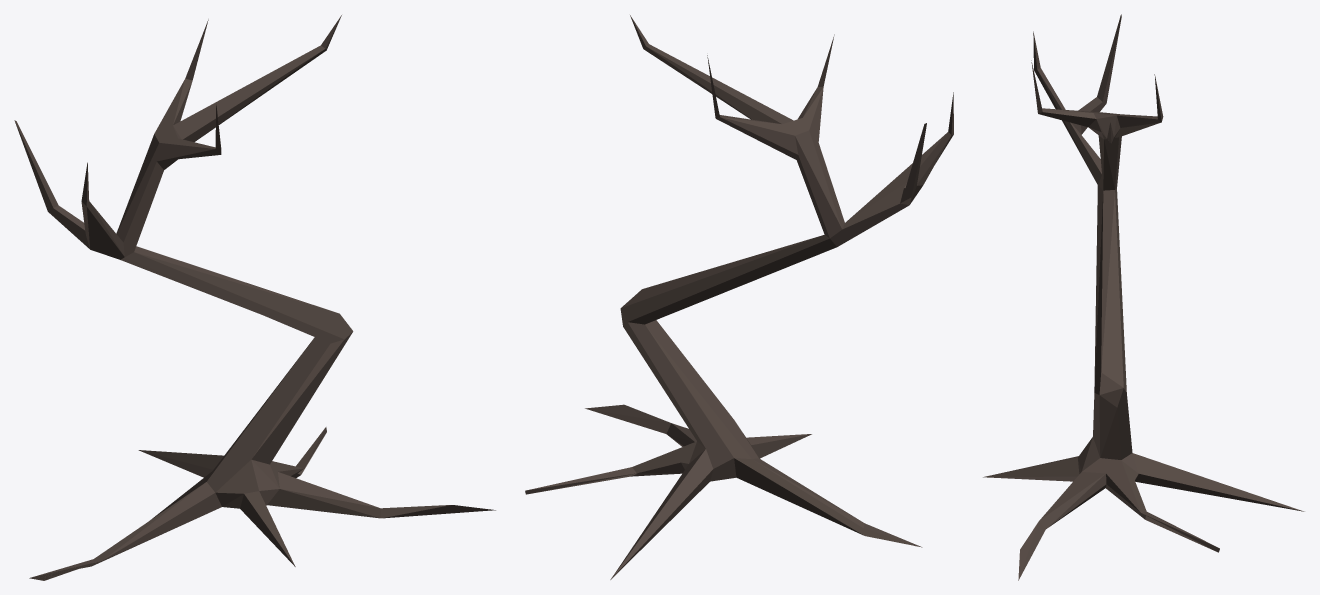
The model's file is Glade_Tree_Tronc4.fbx.
The picture shows the model from 3 angles, left to right: view 1: azimuth 30°, elevation 25°; view 2: azimuth 150°, elevation 25°; view 3: azimuth 270°, elevation 25°; orthographic projection. The views are drawn at different scales.
Parts seen in each view (by area): view 1: Icosphere.015; view 2: Icosphere.015; view 3: Icosphere.015.
Part boxes in pixels (x1,y1,x2,y2): Icosphere.015: [14, 15, 495, 580]; Icosphere.015: [525, 15, 953, 579]; Icosphere.015: [983, 14, 1304, 580].
Bounding box in the file's own units: 253 × 285 × 194.
